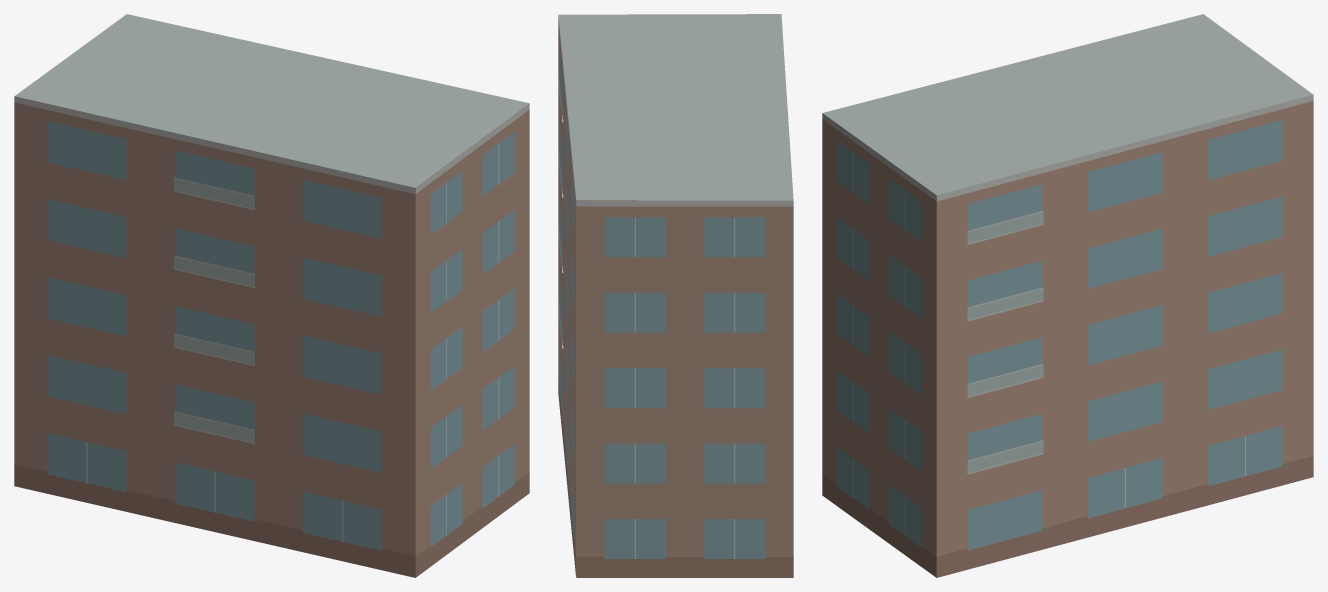
The model's file is survey-upis-33023824.glb.
3 renders of one model, left to right at view 1: azimuth 30°, elevation 25°; view 2: azimuth 150°, elevation 25°; view 3: azimuth 270°, elevation 25°, orthographic. The views are drawn at different scales.
Parts seen in each view (by area): view 1: survey-upis-33023824.tmp; view 2: survey-upis-33023824.tmp; view 3: survey-upis-33023824.tmp.
Boxes of the visible parts, x1,y1,x2,y2 form: survey-upis-33023824.tmp: (14, 14, 529, 577); survey-upis-33023824.tmp: (558, 14, 793, 577); survey-upis-33023824.tmp: (822, 14, 1313, 577).
Size of the model in its own units: 15.52 by 15.25 by 17.76.
